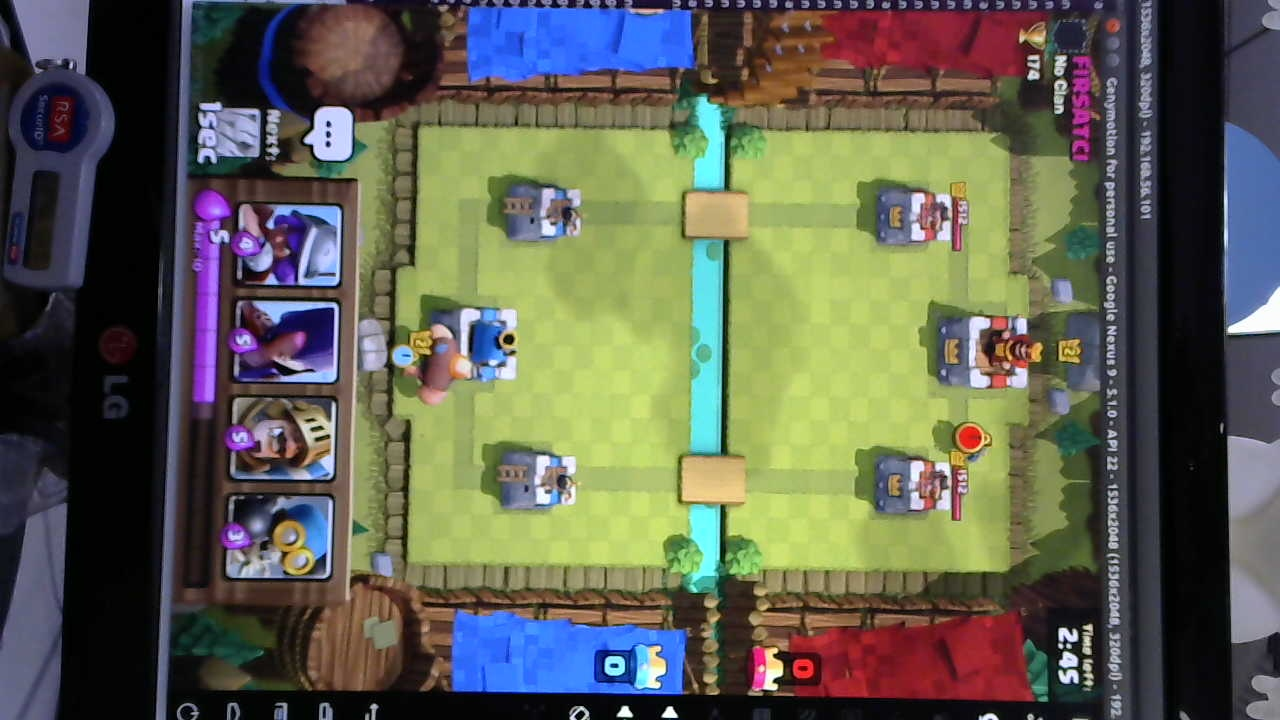arena: (492, 446, 578, 512), (497, 181, 586, 243)
earena: (869, 453, 950, 518), (873, 190, 955, 248)
eking: (932, 311, 1044, 392)
giant: (405, 323, 472, 400)
king: (422, 306, 524, 382)
minipekka: (952, 417, 992, 468)
